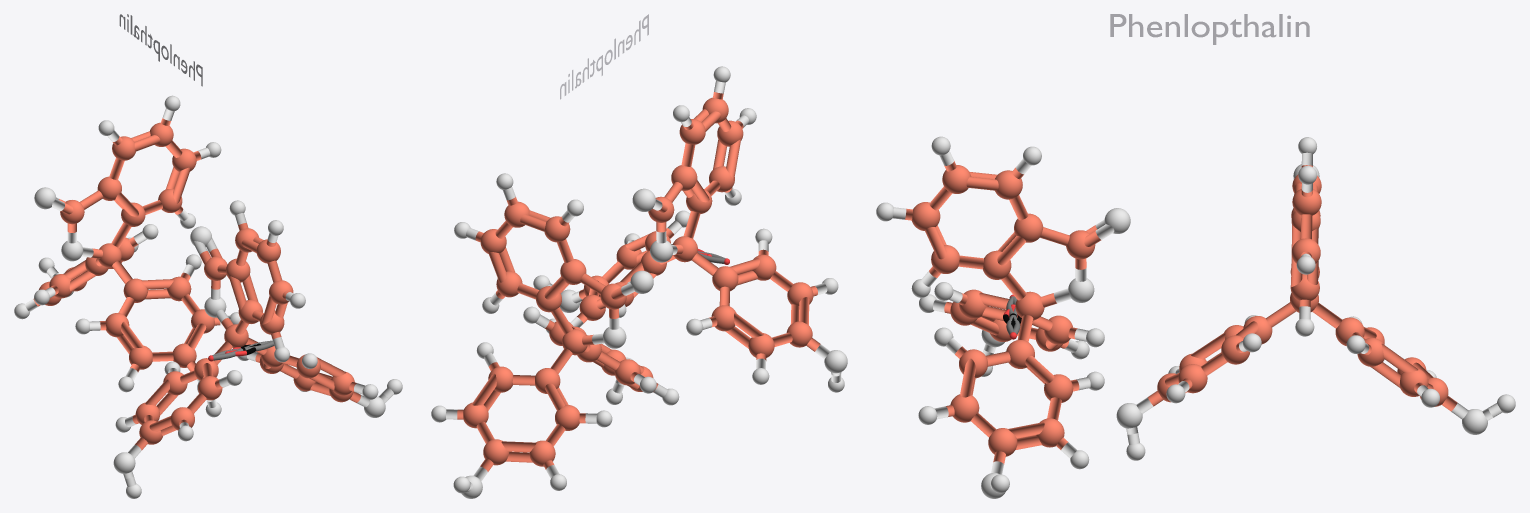
The model's file is phenlopthalin.glb.
3 views of the same model, side by side, from view 1: azimuth 30°, elevation 25°; view 2: azimuth 150°, elevation 25°; view 3: azimuth 270°, elevation 25° (orthographic). The views are drawn at different scales.
Visible parts, largest first — view 1: phenlopthalin, phenlopthalin.001, Text; view 2: phenlopthalin.001, phenlopthalin, Text; view 3: phenlopthalin, phenlopthalin.001, Text.
Boxes of the visible parts, x1=… form: phenlopthalin: x1=113, y1=200, x2=402, y2=498; phenlopthalin.001: x1=14, y1=95, x2=240, y2=417; Text: x1=119, y1=14, x2=202, y2=86; phenlopthalin.001: x1=431, y1=173, x2=679, y2=498; phenlopthalin: x1=533, y1=66, x2=847, y2=392; Text: x1=560, y1=14, x2=648, y2=99; phenlopthalin: x1=876, y1=136, x2=1130, y2=498; phenlopthalin.001: x1=1116, y1=137, x2=1515, y2=460; Text: x1=1110, y1=14, x2=1309, y2=44.
Size of the model in its own units: 10.67 by 12.78 by 17.09.
